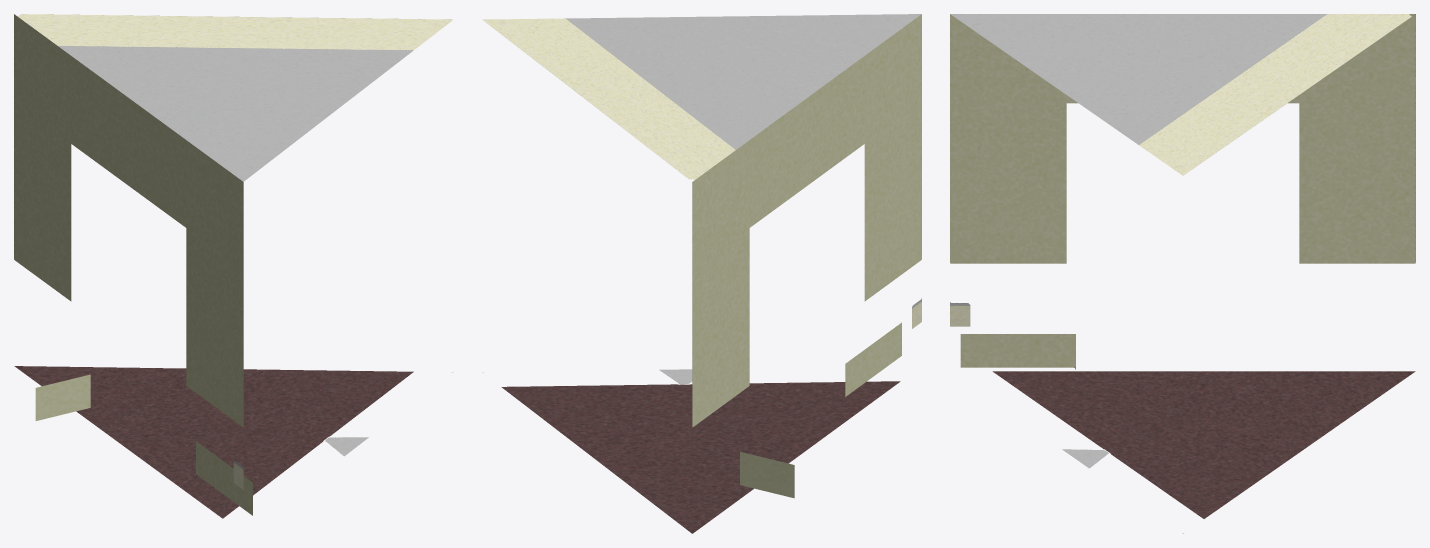
The model's file is housedoorway.fbx.
3 renders of one model, left to right at view 1: azimuth 30°, elevation 25°; view 2: azimuth 150°, elevation 25°; view 3: azimuth 270°, elevation 25°, orthographic.
Parts seen in each view (by area): view 1: Grid; view 2: Grid; view 3: Grid.
Part boxes in pixels (box(x1,y1,x2,y2)): Grid: box(14, 14, 453, 518); Grid: box(482, 14, 921, 533); Grid: box(950, 14, 1415, 533).
Bounding box in the file's own units: 4.12 × 3.81 × 4.48.
Materials: 1 (1 with a texture image).
